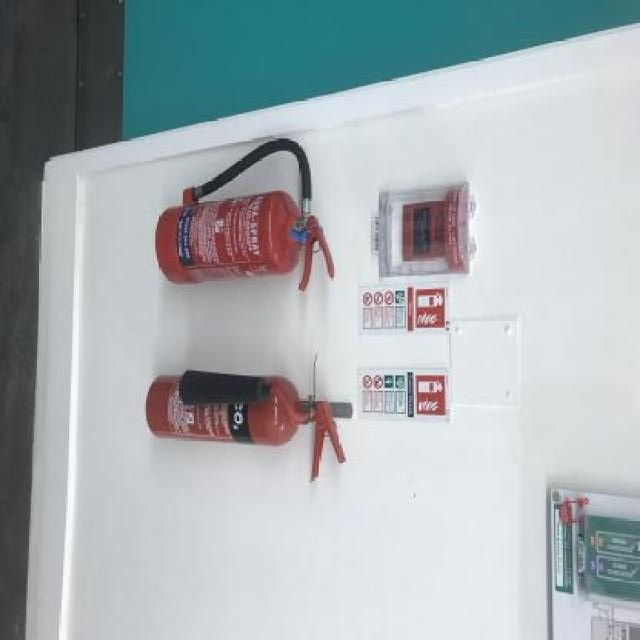fire extinguisher: (154, 138, 337, 294), (143, 372, 355, 483)
